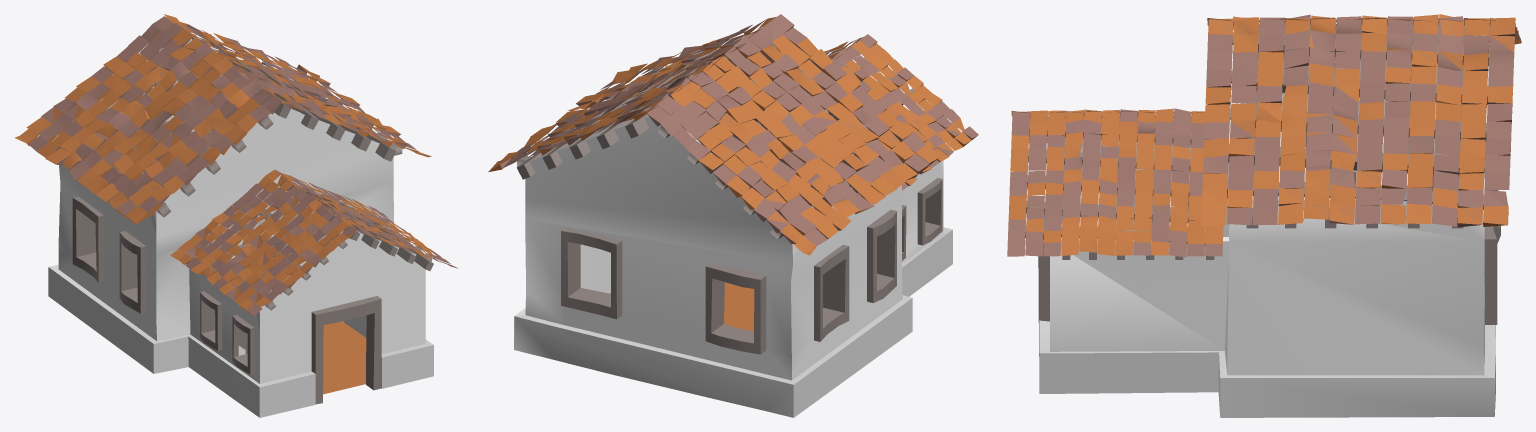
File: House_broken_roof.fbx
3 renders of one model, left to right at view 1: azimuth 30°, elevation 25°; view 2: azimuth 150°, elevation 25°; view 3: azimuth 270°, elevation 25°, orthographic. The views are drawn at different scales.
Parts seen in each view (by area): view 1: node_house_-1070, node_roof_-1072, node_windows_-1074, node_beams_-1068, node_door-frame_-1066; view 2: node_house_-1070, node_roof_-1072, node_windows_-1074, node_beams_-1068; view 3: node_roof_-1072, node_house_-1070, node_beams_-1068, node_windows_-1074, node_door-frame_-1066.
Boxes of the visible parts, box(x1,y1,x2,y2) form: node_house_-1070: box(48, 39, 433, 417); node_roof_-1072: box(14, 14, 458, 315); node_windows_-1074: box(72, 196, 254, 374); node_beams_-1068: box(52, 32, 433, 310); node_door-frame_-1066: box(311, 296, 381, 404); node_house_-1070: box(514, 35, 952, 417); node_roof_-1072: box(488, 14, 978, 255); node_windows_-1074: box(561, 178, 942, 354); node_beams_-1068: box(516, 32, 957, 239); node_roof_-1072: box(1007, 14, 1521, 257); node_house_-1070: box(1039, 30, 1495, 417); node_beams_-1068: box(1025, 25, 1490, 259); node_windows_-1074: box(1079, 129, 1500, 324); node_door-frame_-1066: box(1038, 215, 1049, 356).
Bounding box in the file's own units: 2190 × 1777 × 2562.
